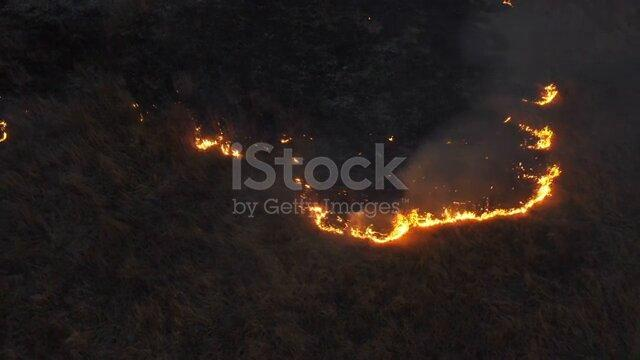fire: (303, 203, 528, 243), (190, 128, 241, 161), (513, 124, 554, 158), (527, 165, 563, 201), (524, 79, 565, 106)
